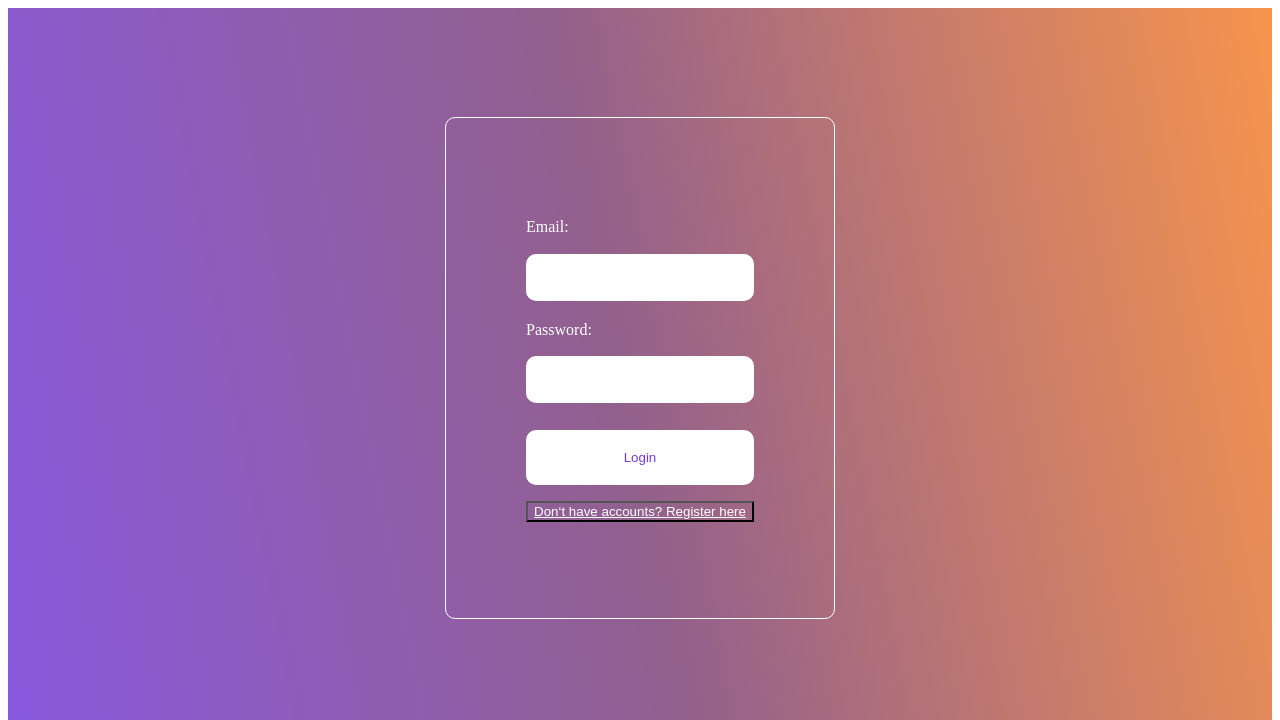
it: Login component › shows an error message if the user enters incorrect email and password
Type "test@example.com" into the field labelled "Email:".
click(640, 277); type("test@example.com")  # box left=526, top=254, right=754, bottom=301
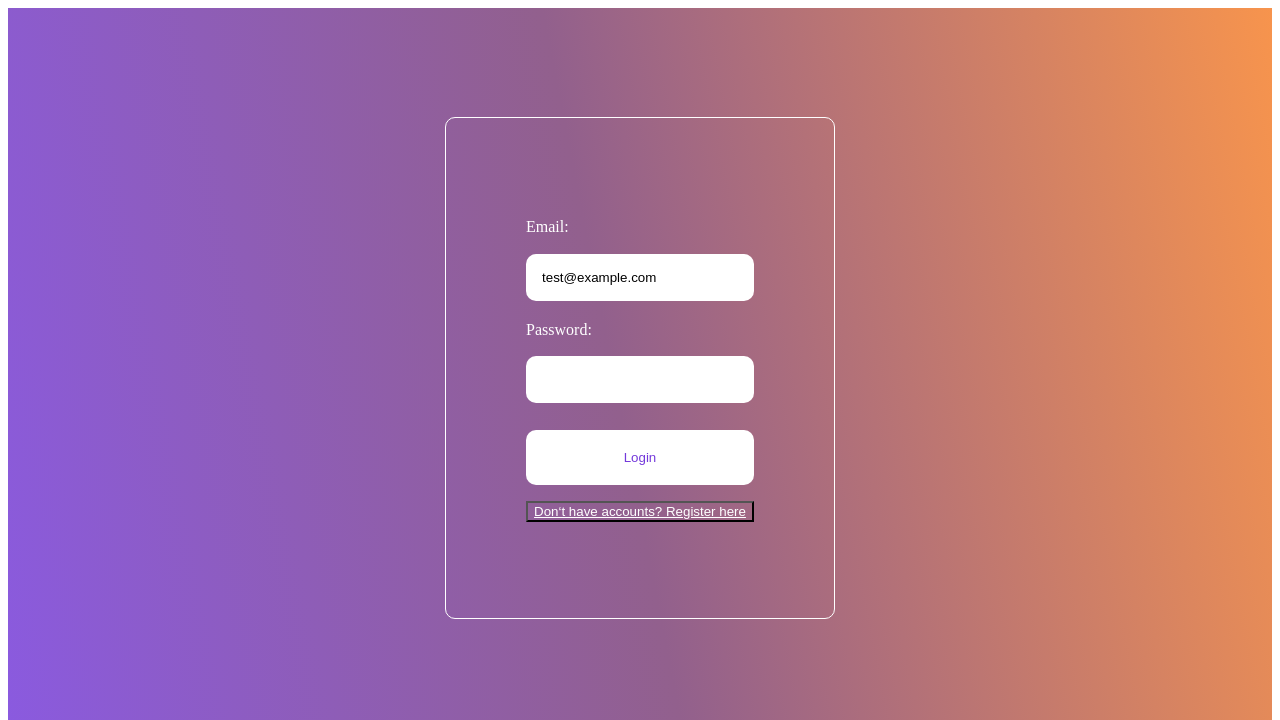
Type "password123" into the password field labelled "Password:".
click(640, 380); type("password123")  # box left=526, top=356, right=754, bottom=403
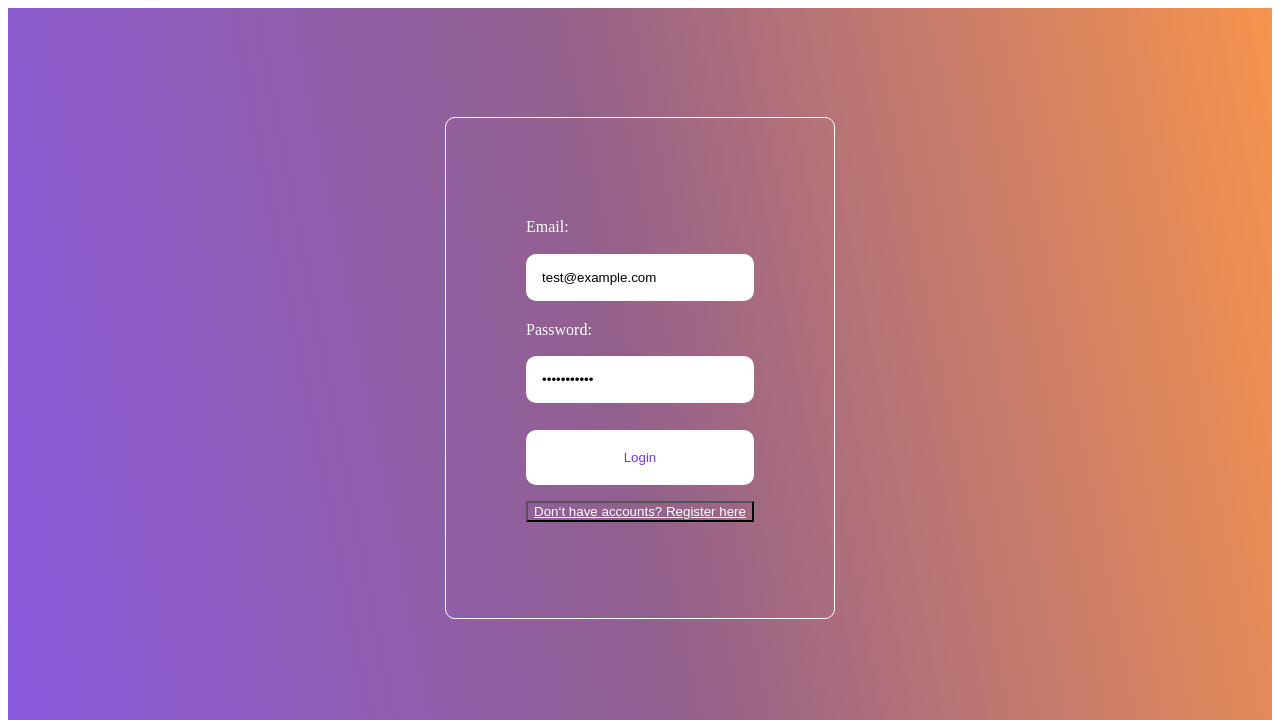
Click the button "Login".
click(640, 457)  # box left=526, top=430, right=754, bottom=485
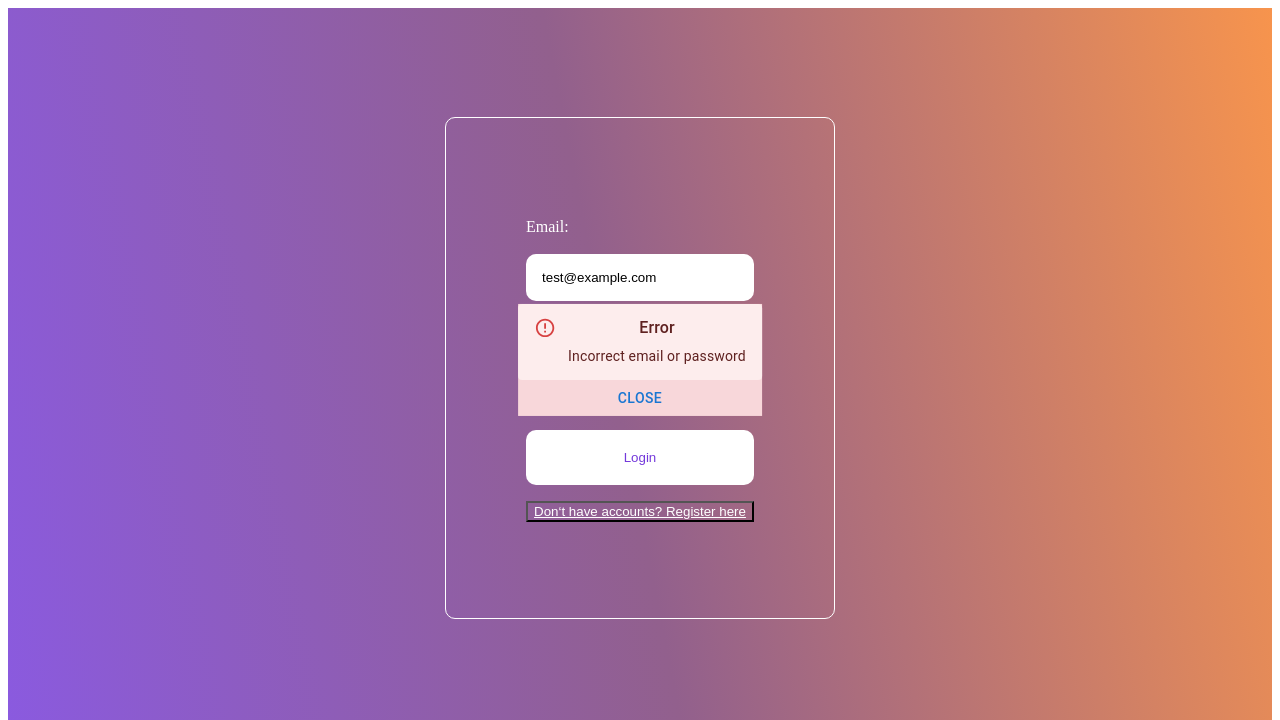
Expected: the message with test id "alert" shows "Incorrect email or password", left=568, top=348, right=746, bottom=364
